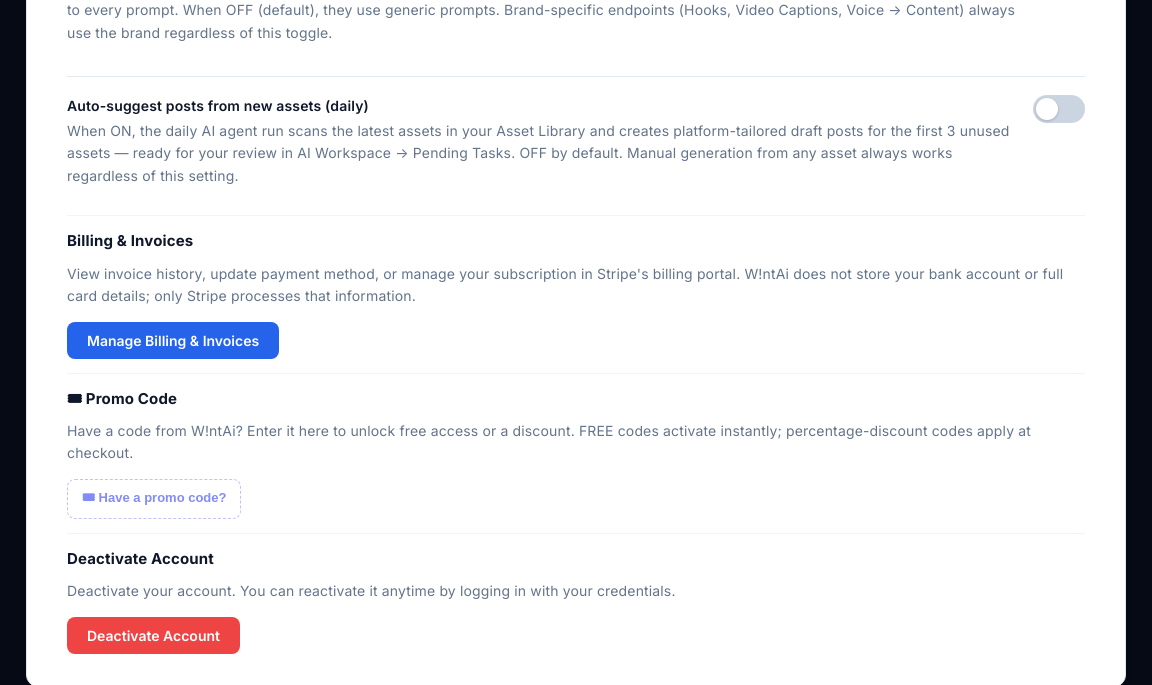
Test case: AccountSettings › shows error banner when deactivation fails
(page scrolled)
Click the button "Deactivate Account": (154, 635) [67,617,240,654]
(page scrolled)
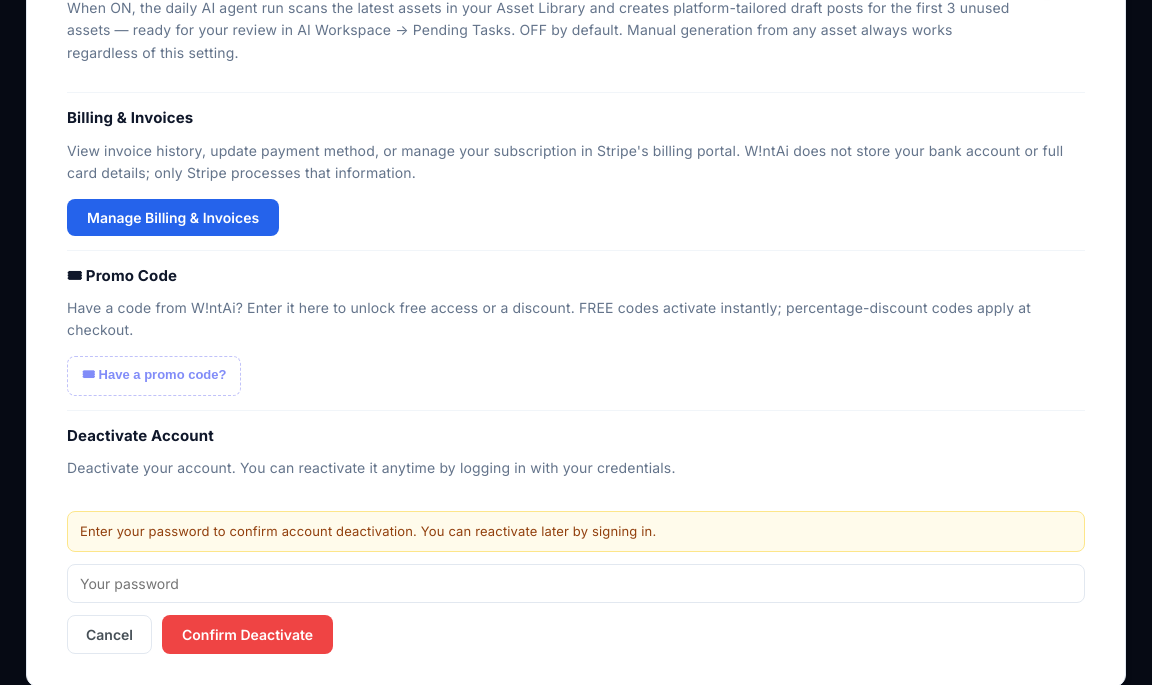
In the password field with placeholder "Your password": (576, 584) [67,564,1085,603], type "wrong"
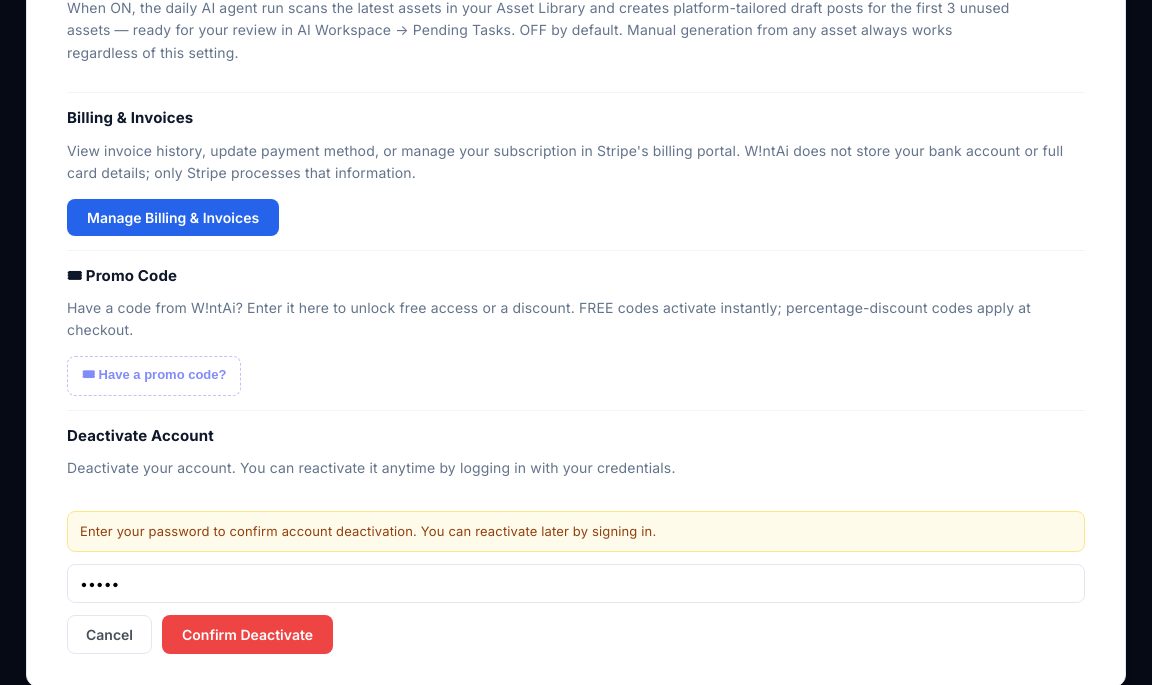
Click the button "Confirm Deactivate": (248, 635) [162,615,333,654]
(page scrolled)
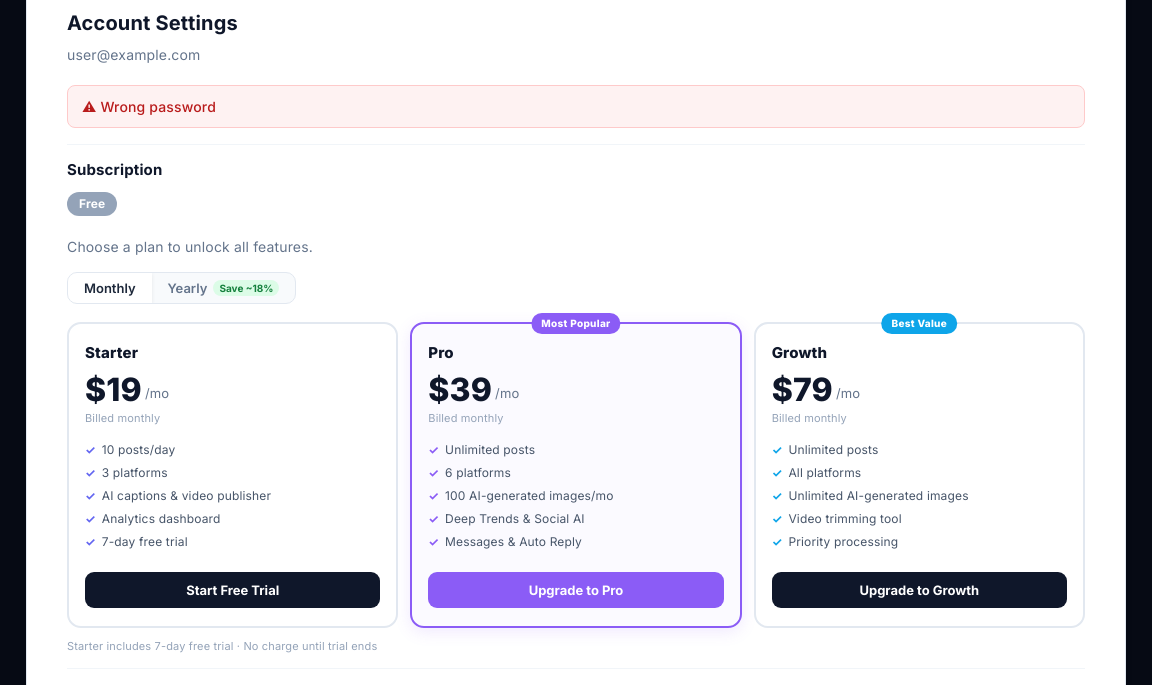
Expected: the text "⚠ Wrong password" is shown, [67,85,1085,128]
